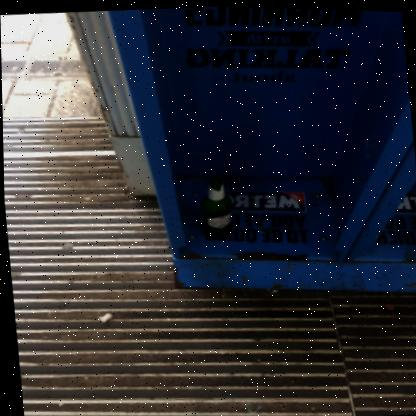Plastic: (199, 173, 230, 236)
Waste: (95, 310, 111, 322)
